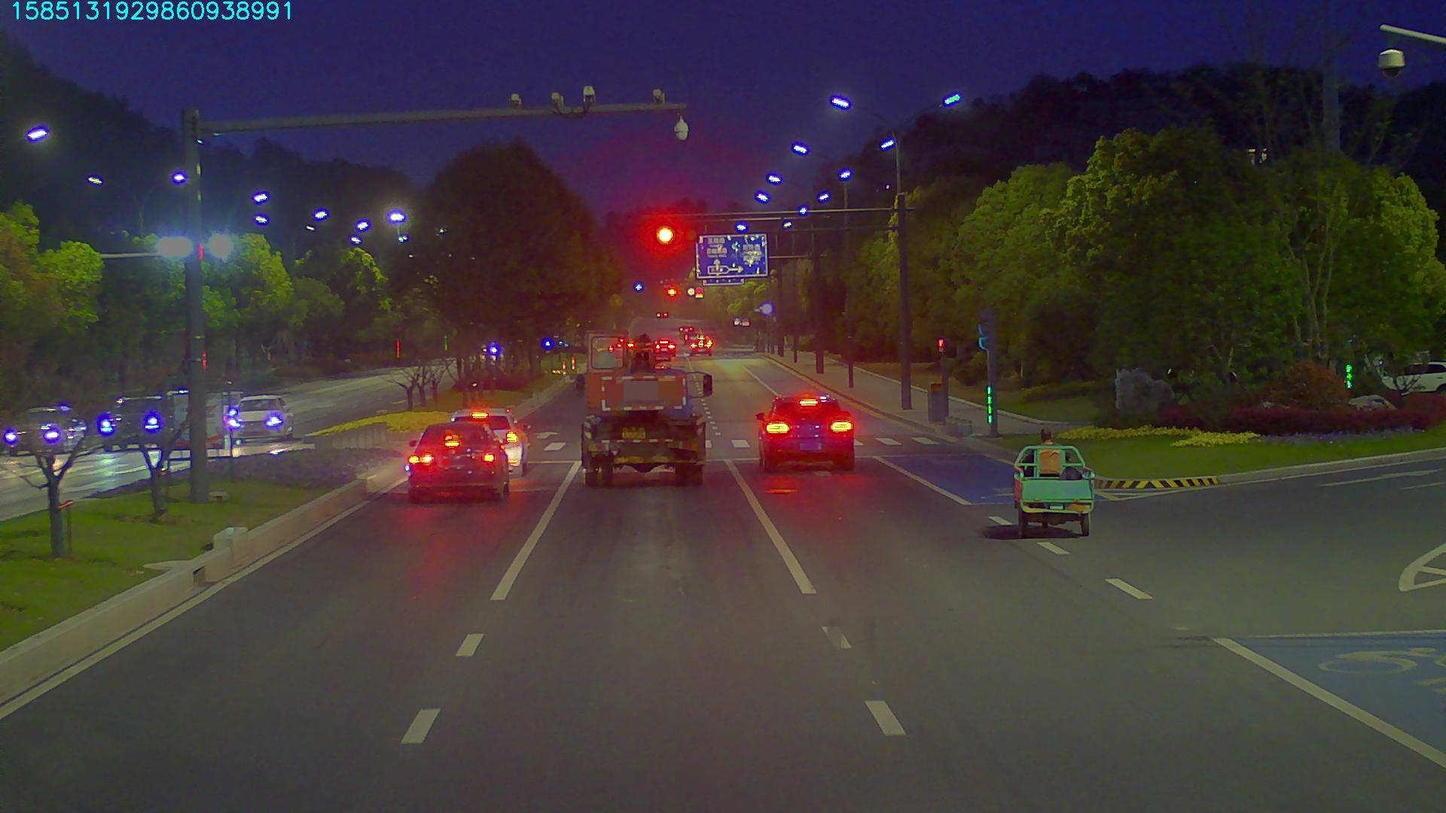red: (651, 213, 673, 242)
